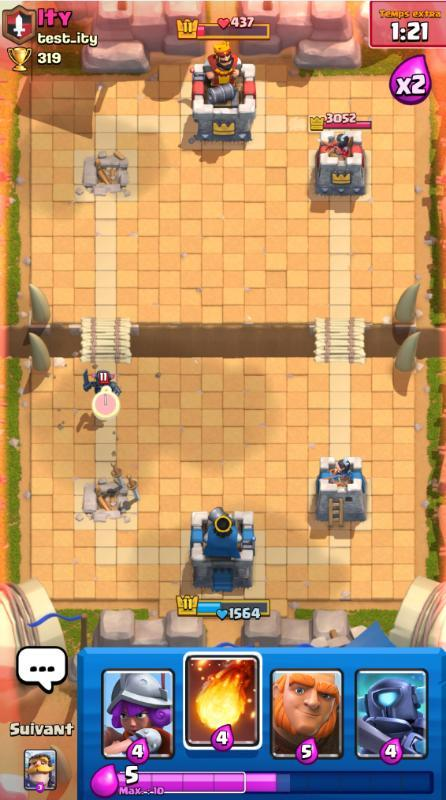mini_PEKKA: (83, 368, 122, 396)
